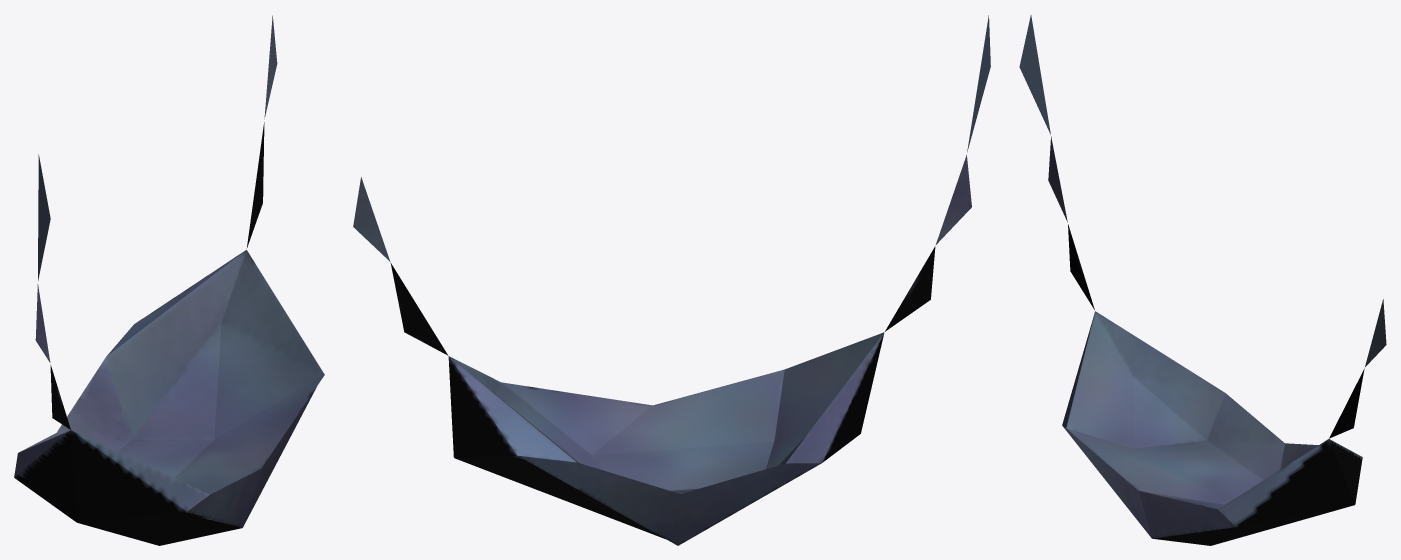
The model's file is 0swing.fbx_hammock.fbx.
The picture shows the model from 3 angles, left to right: view 1: azimuth 30°, elevation 25°; view 2: azimuth 150°, elevation 25°; view 3: azimuth 270°, elevation 25°; orthographic projection. The views are drawn at different scales.
Parts seen in each view (by area): view 1: Hammock1; view 2: Hammock1; view 3: Hammock1.
Part boxes in pixels (box(x1,y1,x2,y2)): Hammock1: box(14, 15, 324, 545); Hammock1: box(353, 15, 990, 545); Hammock1: box(1019, 15, 1386, 545).
Bounding box in the file's own units: 321 × 358 × 271.
